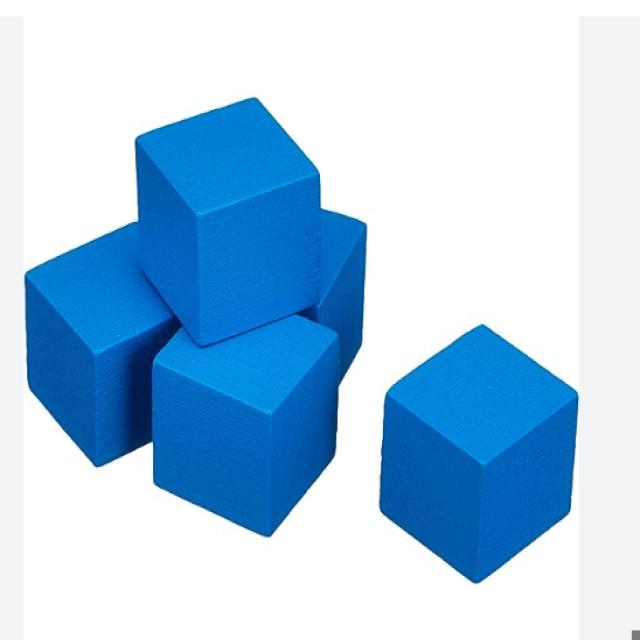bluecube: (378, 322, 580, 584), (135, 95, 320, 347), (152, 313, 340, 539), (24, 221, 183, 469), (298, 206, 367, 389)
